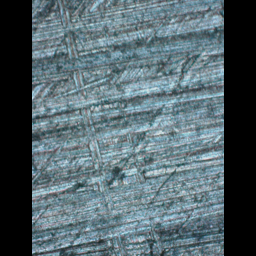d: (51, 1, 167, 256)
